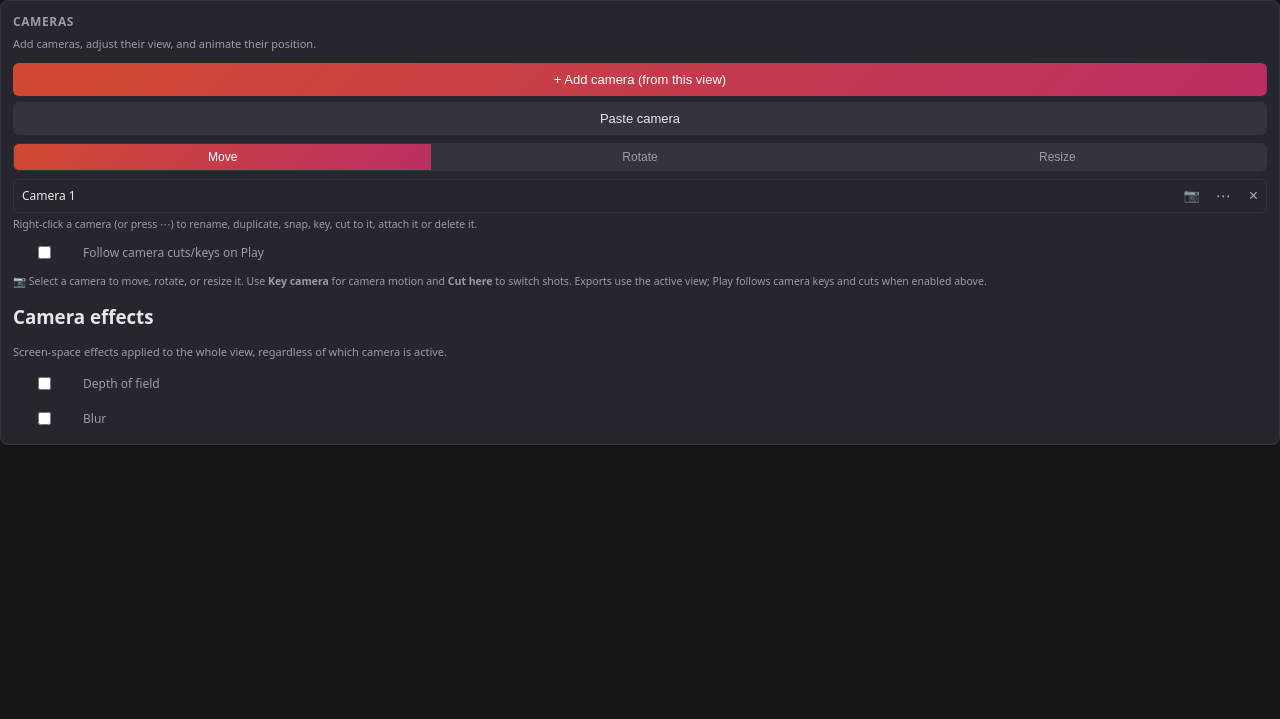
Cameras list › keeps the × and look-through icon, and the copy icon moved into the menu
Check: the button named "Remove Camera 1" is shown, box [1241,186,1258,206]
Right-click the text "Camera 1 📷 ⋯ ×".
right_click(49, 196)  # box [14,180,1266,212]
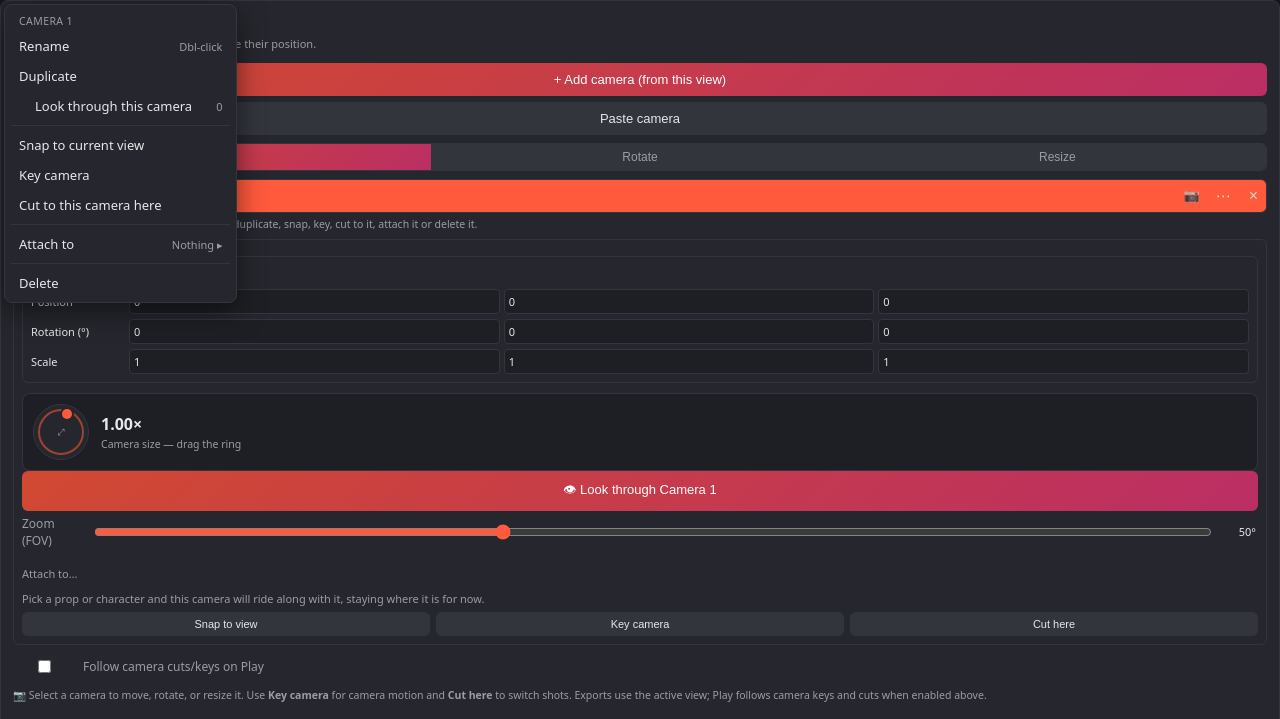
Check: the menu item "Duplicate" is shown, box [9,61,232,91]
Check: the menu item "Look through this camera 0" is shown, box [9,91,232,121]
